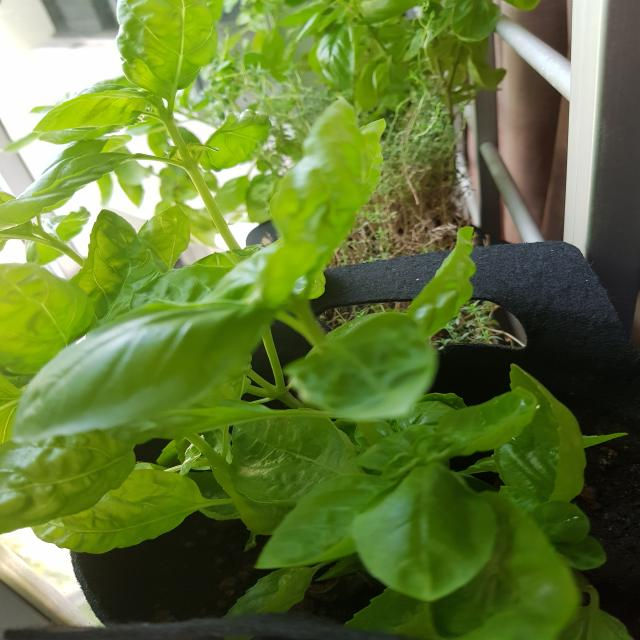Sweet Basil: (0, 4, 605, 599)
Thyme: (384, 120, 500, 258)
